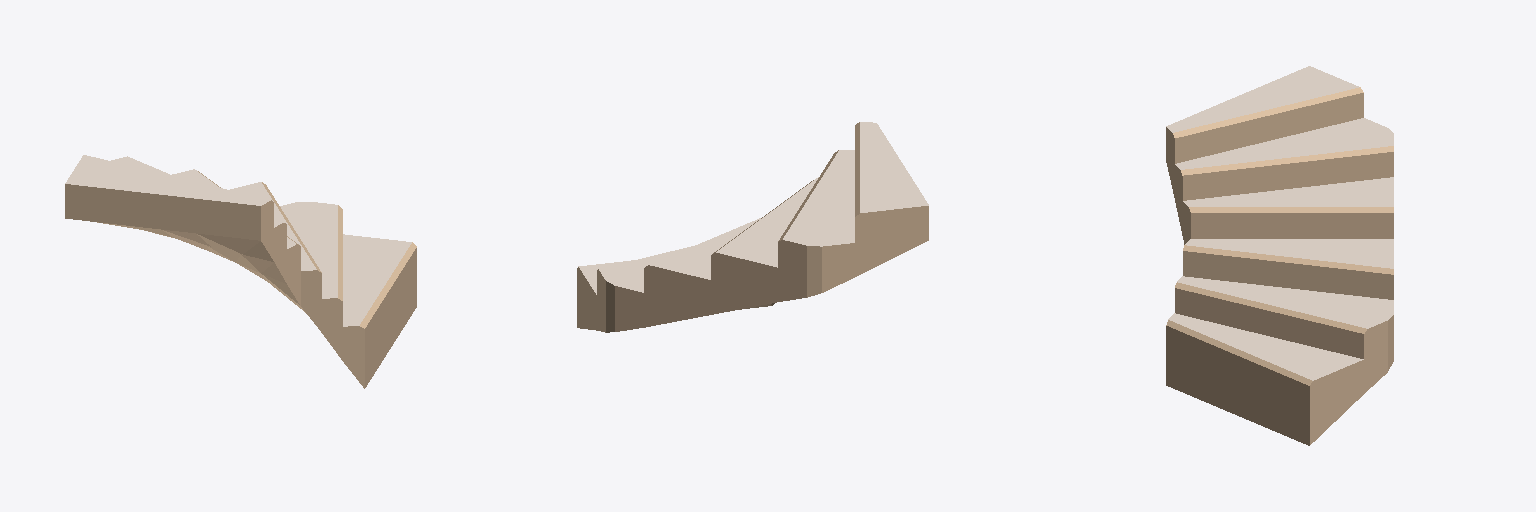
Rendered from Tower_Steps.obj.
The picture shows the model from 3 angles: view 1: azimuth 30°, elevation 25°; view 2: azimuth 150°, elevation 25°; view 3: azimuth 270°, elevation 25°; orthographic projection.
Visible parts, largest first — view 1: object1; view 2: object1; view 3: object1.
Boxes of the visible parts, x1=… form: object1: x1=65, y1=155, x2=416, y2=388; object1: x1=577, y1=122, x2=928, y2=332; object1: x1=1166, y1=66, x2=1393, y2=445.
Size of the model in its own units: 2.12 by 1.2 by 1.19.